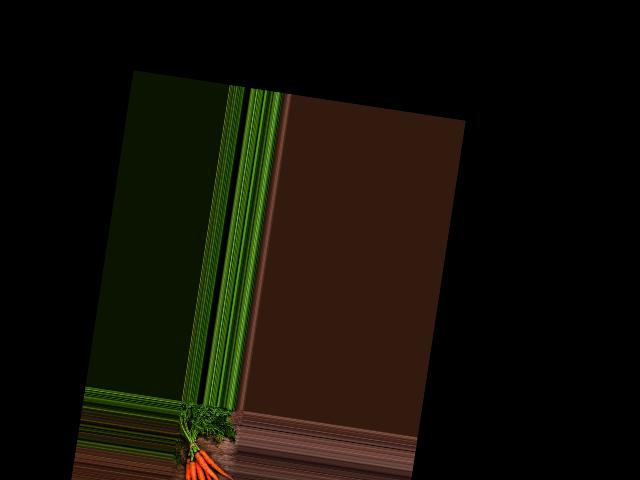carrot: (181, 456, 204, 480)
